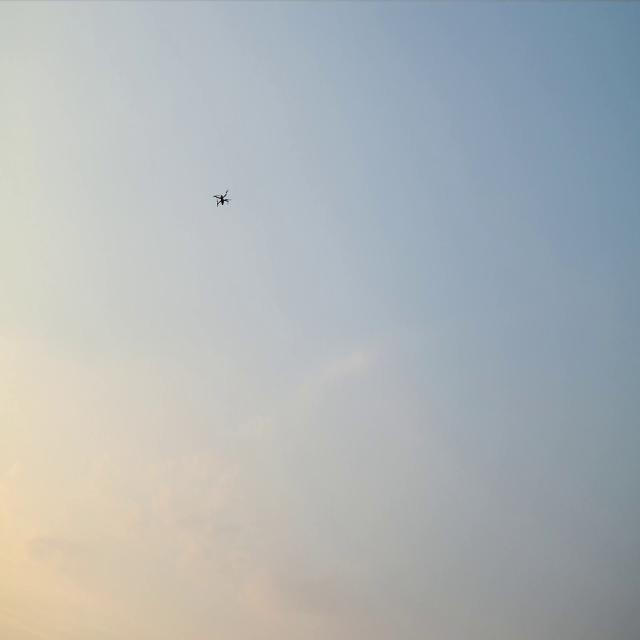UAV: (214, 191, 228, 205)
